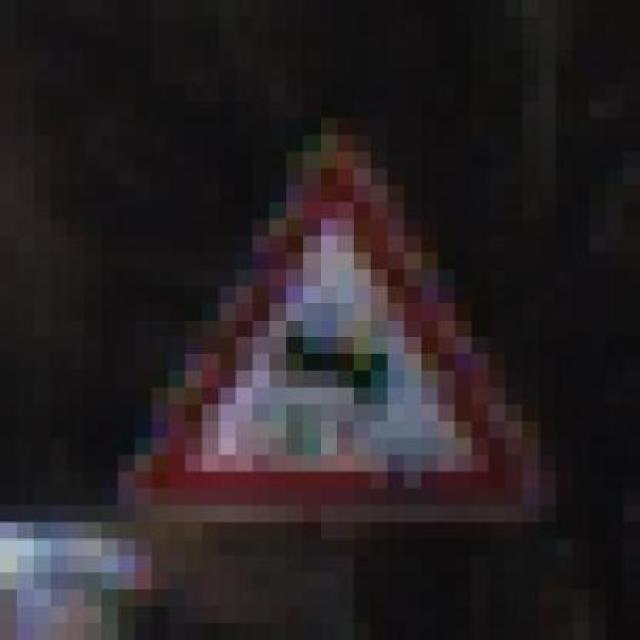Slippery Road Ahead: (118, 101, 556, 556)
